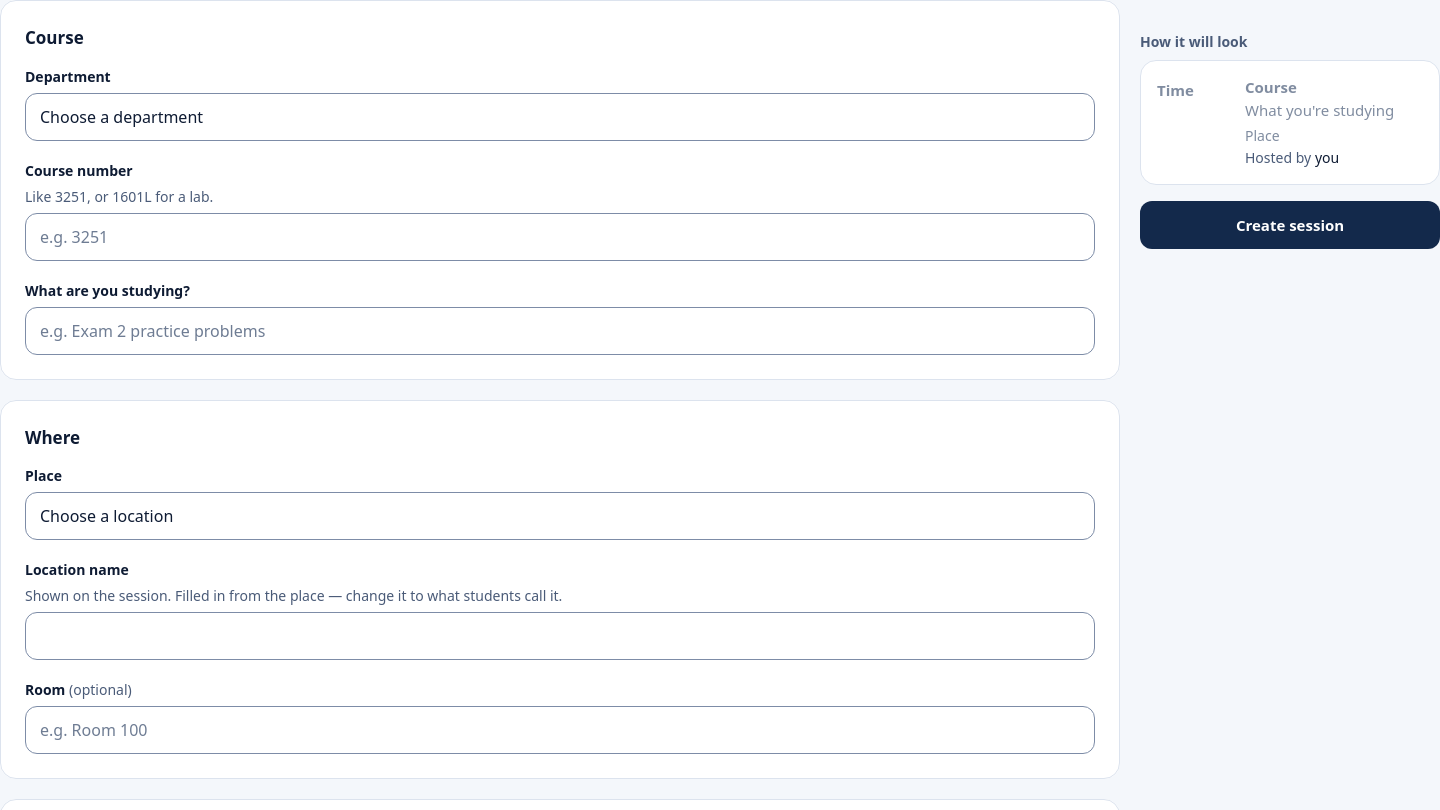
Test: <CreateSessionForm> course typeahead › stays usable when suggestions fail to load
Select "CS — Computer Science" in the dropdown labelled "Department" at (560, 116), box [25, 92, 1095, 140]
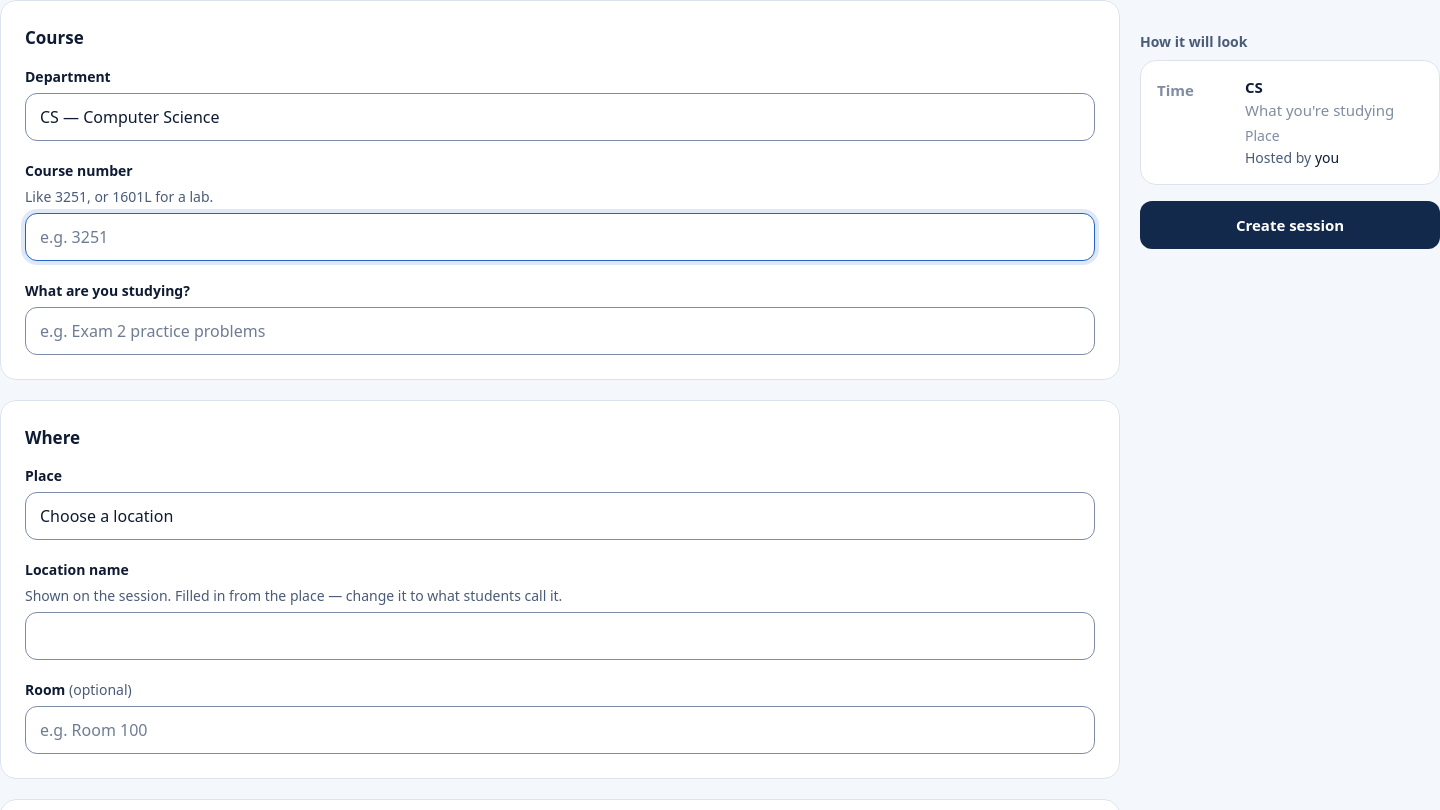
Type "3251" into the dropdown labelled "Course number" at (560, 236), box [25, 212, 1095, 260]
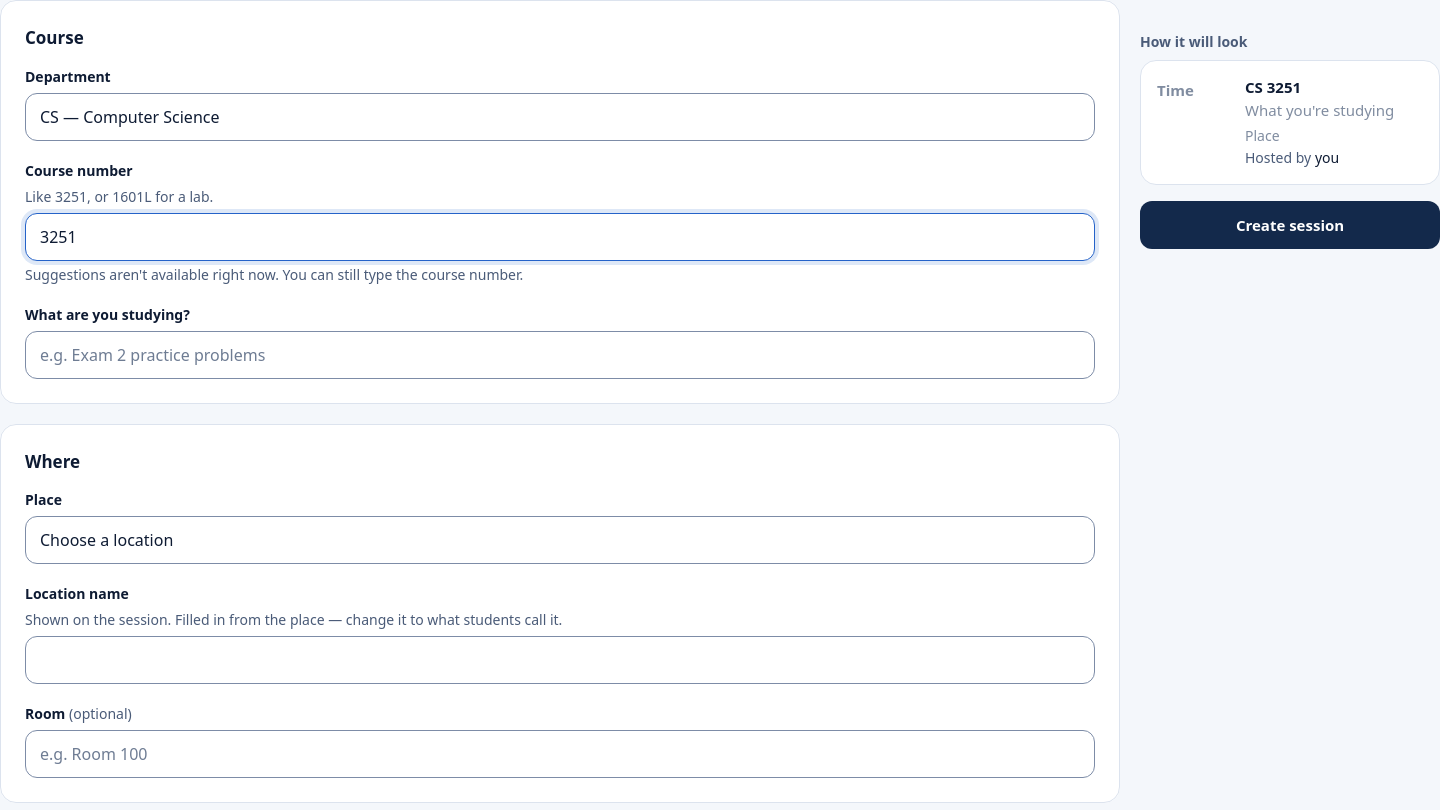
Result: the text "Suggestions aren.t available right now" is shown at [25, 264, 523, 284]
